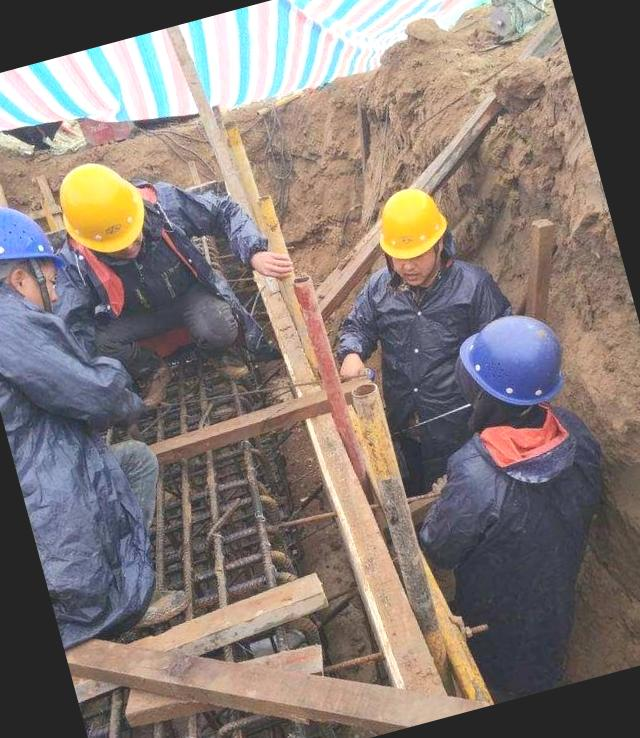helmet: (441, 296, 578, 427), (40, 154, 163, 273), (364, 175, 464, 269), (0, 183, 69, 296)
